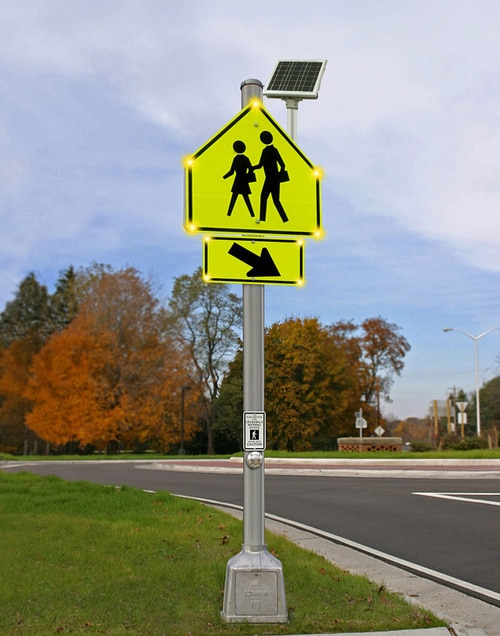slow: (182, 102, 325, 240)
